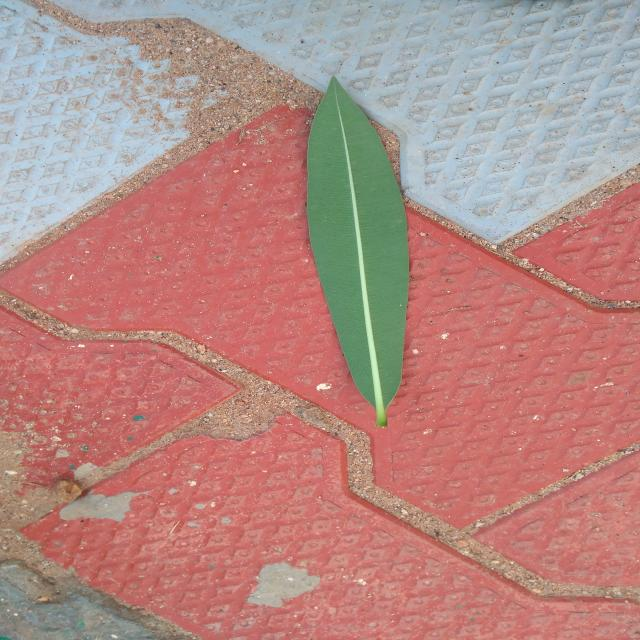ganigale: (307, 78, 409, 428)
